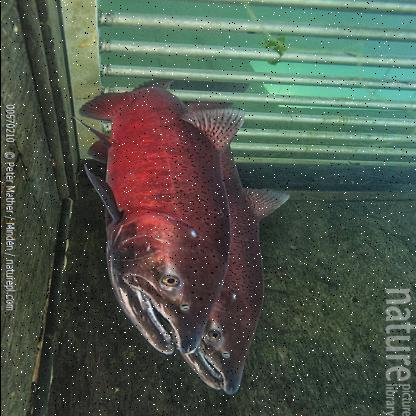fish: (68, 72, 247, 356), (136, 76, 294, 393)
